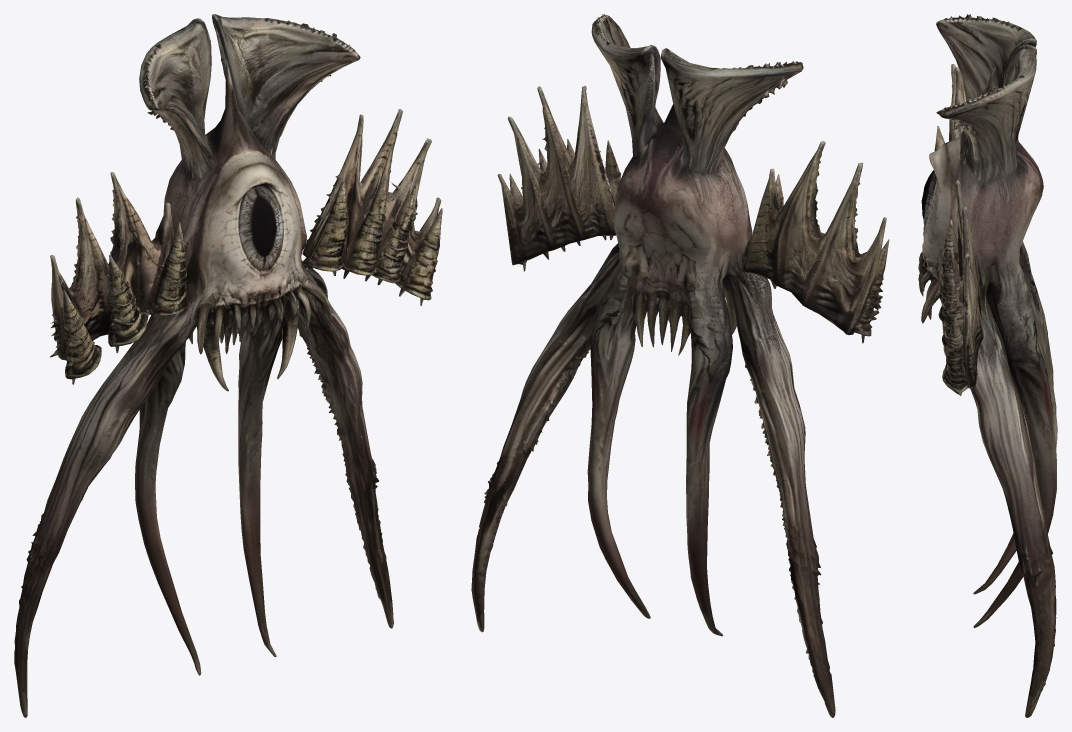
The model's file is VoidGazer.glb.
The picture shows the model from 3 angles, left to right: view 1: azimuth 30°, elevation 25°; view 2: azimuth 150°, elevation 25°; view 3: azimuth 270°, elevation 25°; orthographic projection. The views are drawn at different scales.
Visible parts, largest first — view 1: Mesh1.0; view 2: Mesh1.0; view 3: Mesh1.0.
Part boxes in pixels (bbox=[...]): Mesh1.0: bbox=[14, 14, 442, 717]; Mesh1.0: bbox=[471, 14, 889, 717]; Mesh1.0: bbox=[918, 14, 1057, 717].
Bounding box in the file's own units: 1.21 × 1.91 × 0.4051.
Materials: 1 (1 with a texture image).
